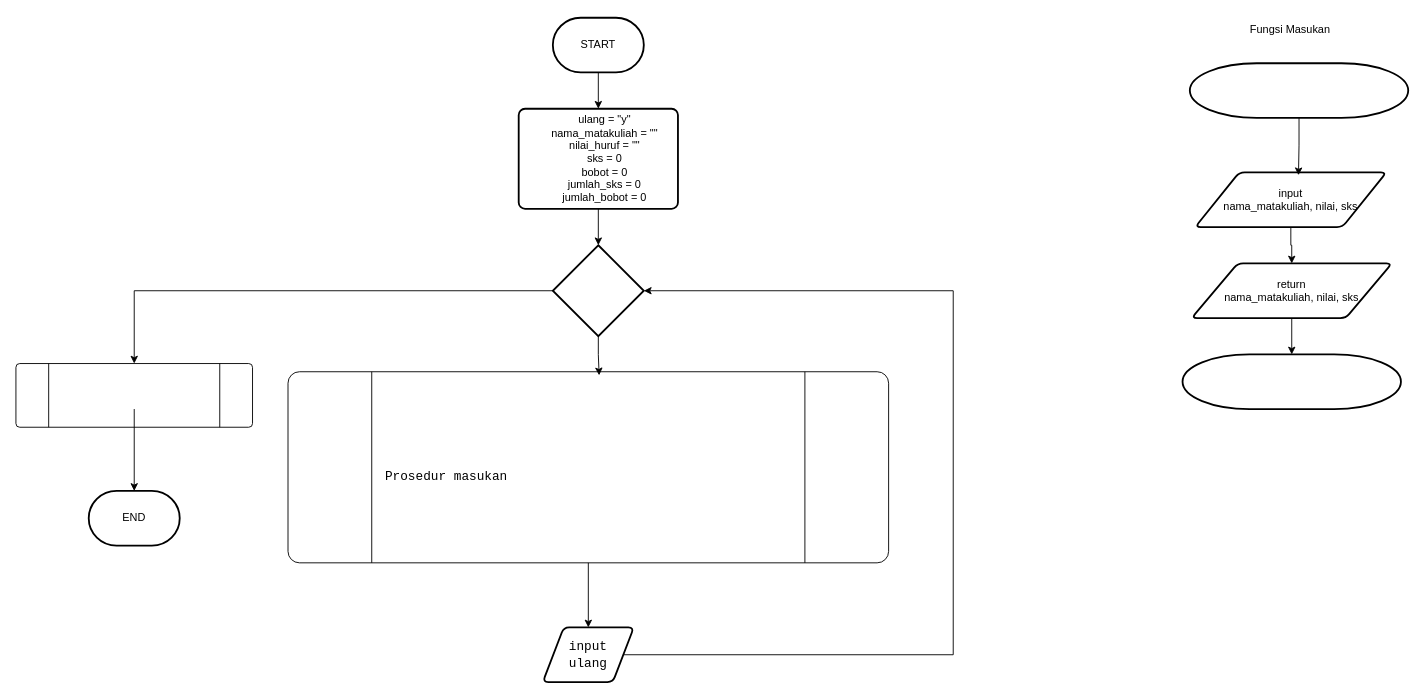
Some shapes in this 1425 by 698 pixel diagram are drawn without their labels. The shapes that lost their labels are listed below. From the top down, each one's box as (x1, y1, x2, y2) in pixels, then its label:
(1188, 62, 1409, 118): START Fungsi: Masukkan
(551, 244, 644, 337): ulang == "y"
(15, 363, 253, 427): Fungsi Hitung IPK
(1181, 353, 1401, 410): END Fungsi: Masukkan
